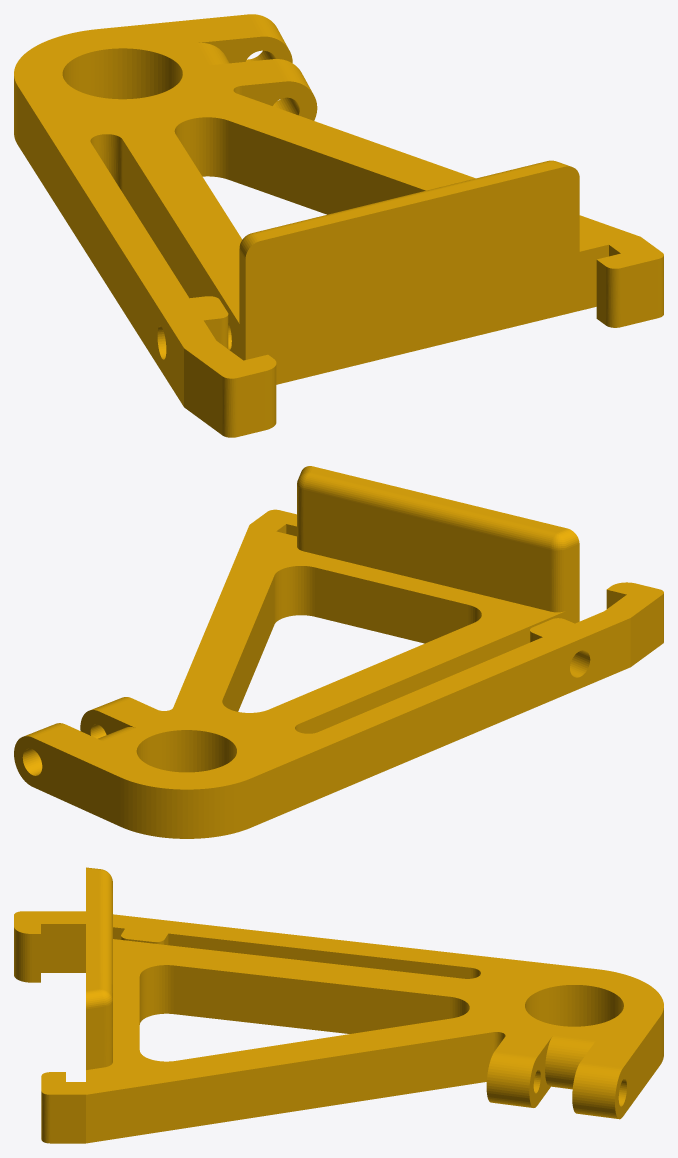
The model's file is Bracket-52.glb.
The picture shows the model from 3 angles, top to bottom: view 1: azimuth 30°, elevation 25°; view 2: azimuth 150°, elevation 25°; view 3: azimuth 270°, elevation 25°; orthographic projection. The views are drawn at different scales.
Bounding box in the file's own units: 48.5 × 15 × 72.59.
